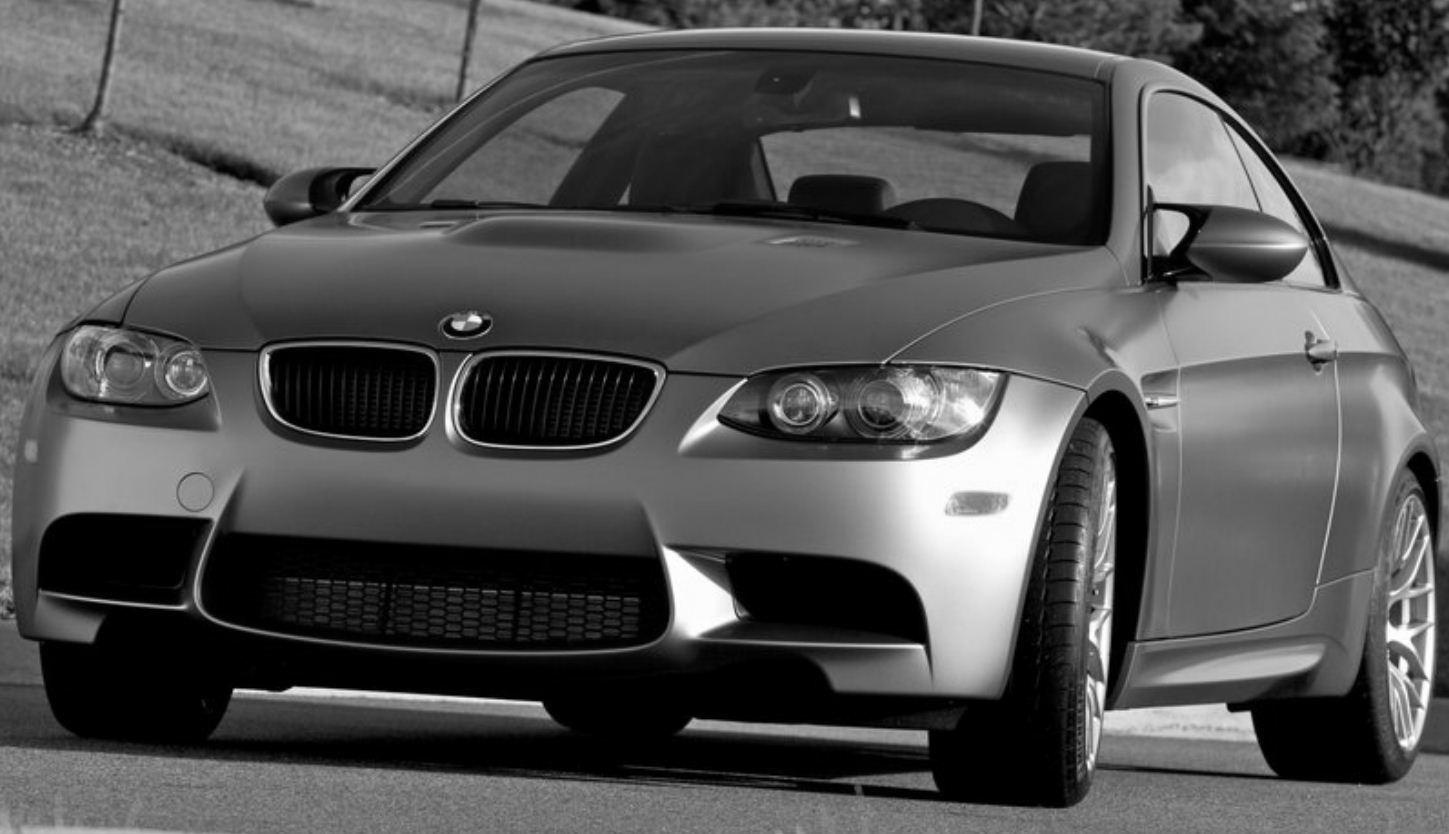car: (18, 28, 1442, 812)
